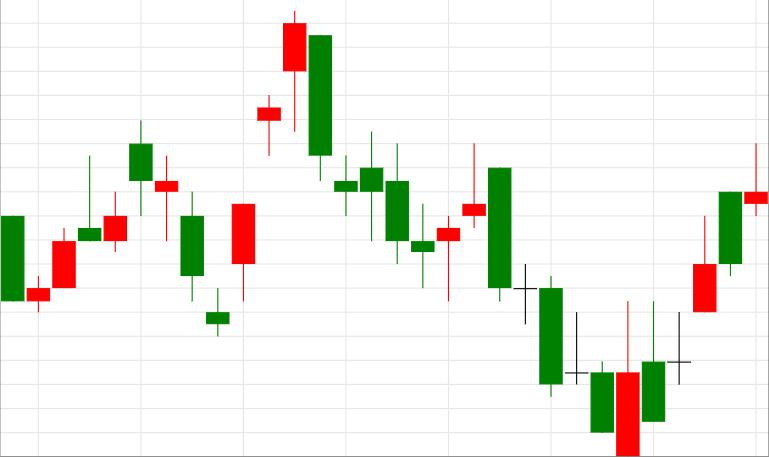bullish_engulfing_rise: (489, 169, 640, 457)
morning_star_rise: (129, 120, 254, 335)
